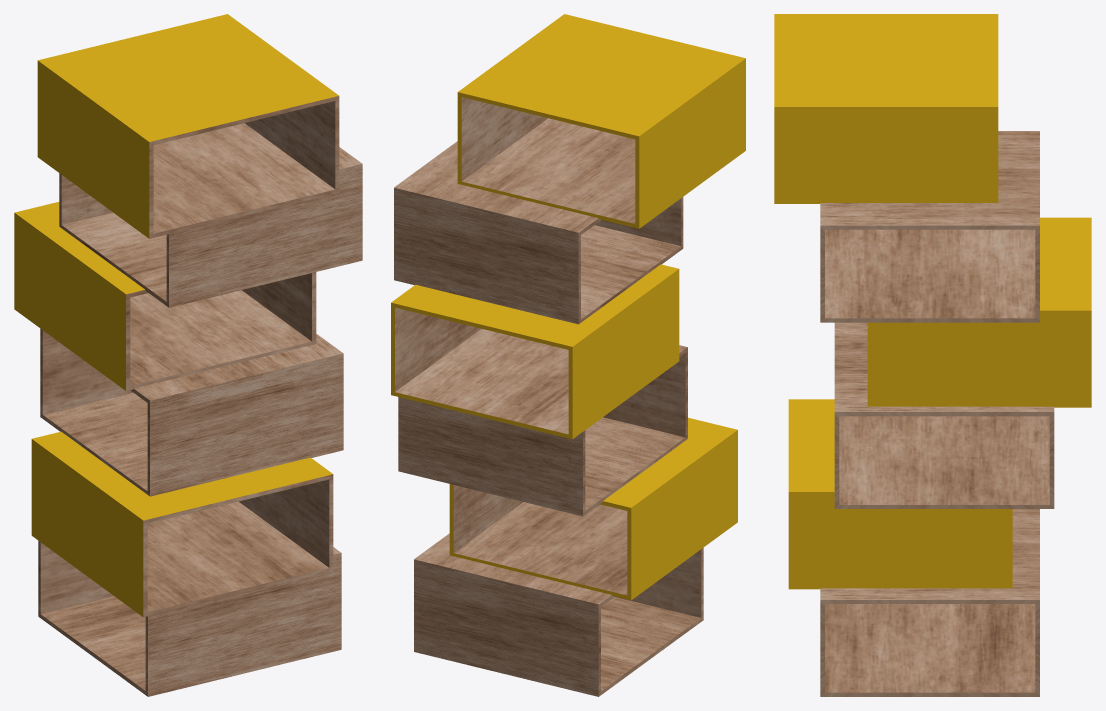
Rendered from CubeShelf.fbx.
3 views of the same model, side by side, from view 1: azimuth 30°, elevation 25°; view 2: azimuth 150°, elevation 25°; view 3: azimuth 270°, elevation 25° (orthographic). The views are drawn at different scales.
Visible parts, largest first — view 1: Cube.001, Cube.002; view 2: Cube.001, Cube.002; view 3: Cube.001, Cube.002.
Boxes of the visible parts, x1=… form: Cube.001: x1=14, y1=14, x2=362, y2=696; Cube.002: x1=38, y1=96, x2=339, y2=696; Cube.001: x1=391, y1=14, x2=745, y2=696; Cube.002: x1=395, y1=97, x2=703, y2=696; Cube.001: x1=774, y1=14, x2=1091, y2=696; Cube.002: x1=825, y1=229, x2=1049, y2=692.
Bounding box in the file's own units: 248 × 580 × 288.
Materials: 2 (1 with a texture image).
